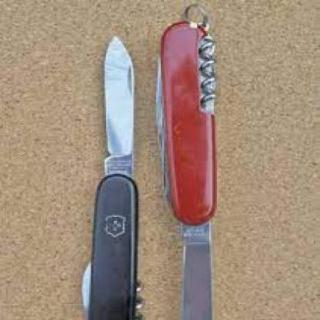knife: (76, 36, 146, 176)
